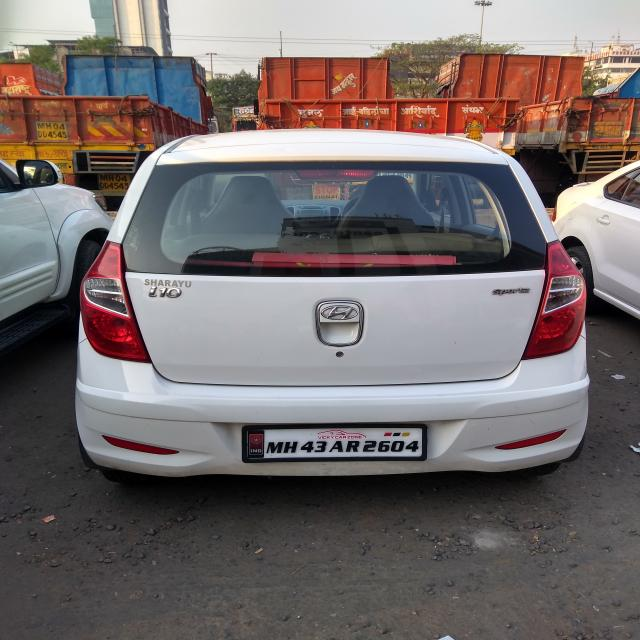Number-Plate: (250, 428, 424, 458)
